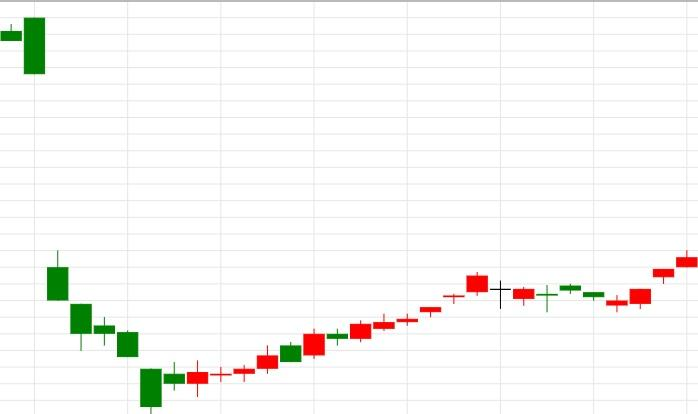three_white_soldiers_rise: (559, 250, 698, 313)
